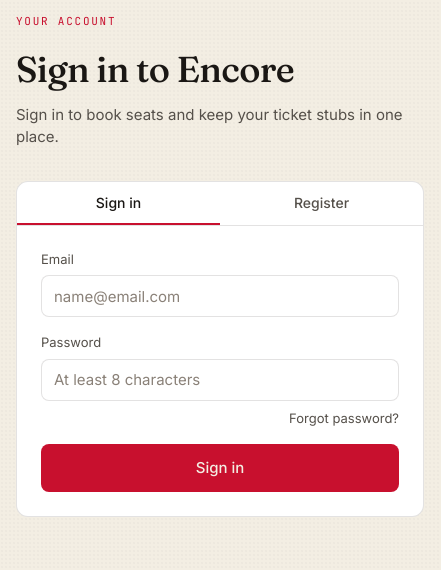
it: LoginPage › shows a generic message on invalid credentials, never revealing whether the account exists
Step 1. Type "nobody@example.com" into the field labelled "Email" → (220, 296), box [41, 275, 399, 317]
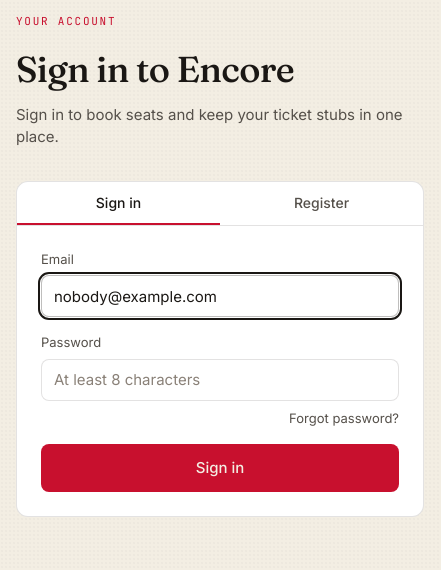
Step 2. Type "wrongpassword" into the password field labelled "Password" → (220, 380), box [41, 358, 399, 400]
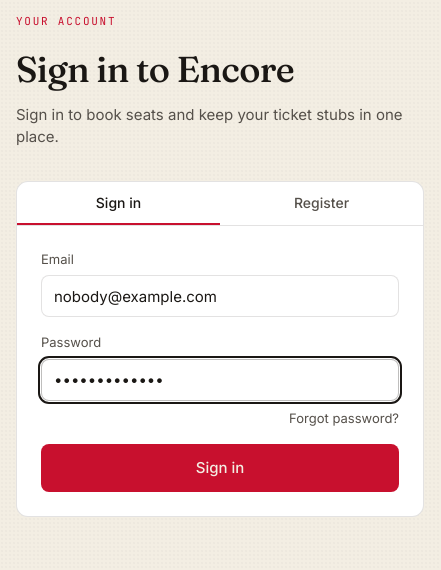
Step 3. Click the button "Sign in" below "Forgot password?" → (220, 468), box [41, 444, 399, 492]
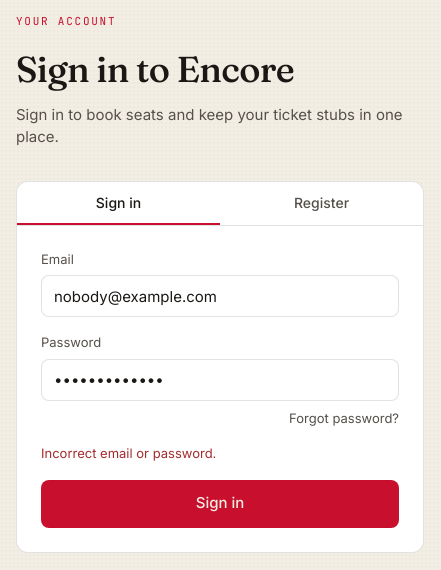
expect the message reads "Incorrect email or password.": met, box [41, 445, 216, 461]
